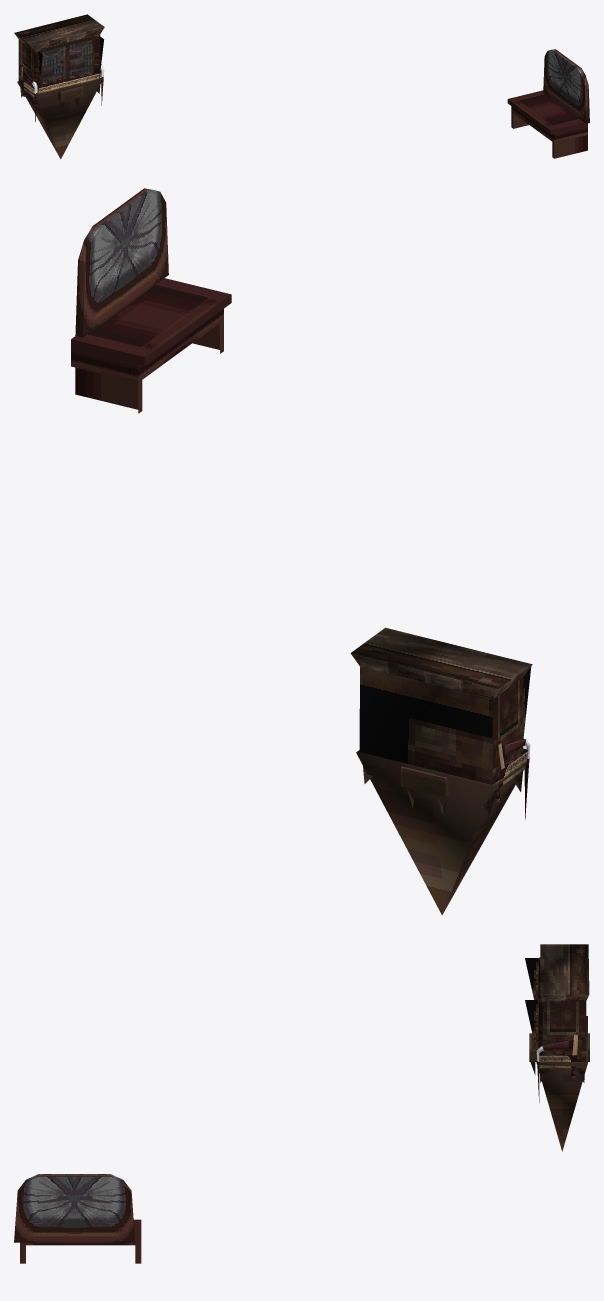
The picture shows the model from 3 angles, top to bottom: view 1: azimuth 30°, elevation 25°; view 2: azimuth 150°, elevation 25°; view 3: azimuth 270°, elevation 25°; orthographic projection. The views are drawn at different scales.
Visible parts, largest first — view 1: poruta; view 2: poruta; view 3: poruta.
Part boxes in pixels (x1=…): poruta: x1=14, y1=14, x2=589, y2=159; poruta: x1=71, y1=188, x2=532, y2=915; poruta: x1=14, y1=944, x2=589, y2=1263.
Size of the model in its own units: 5 by 1.87 by 4.75.
Materials: 10 (10 with a texture image).
